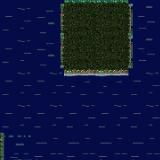Interaction: (0, 127, 14, 160)
Slow: (0, 0, 60, 160), (60, 77, 131, 160), (131, 0, 160, 160)
